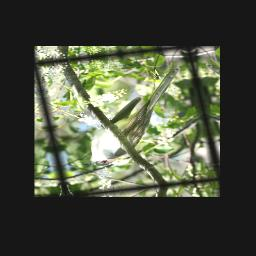Cuckoo: (61, 62, 203, 169)
